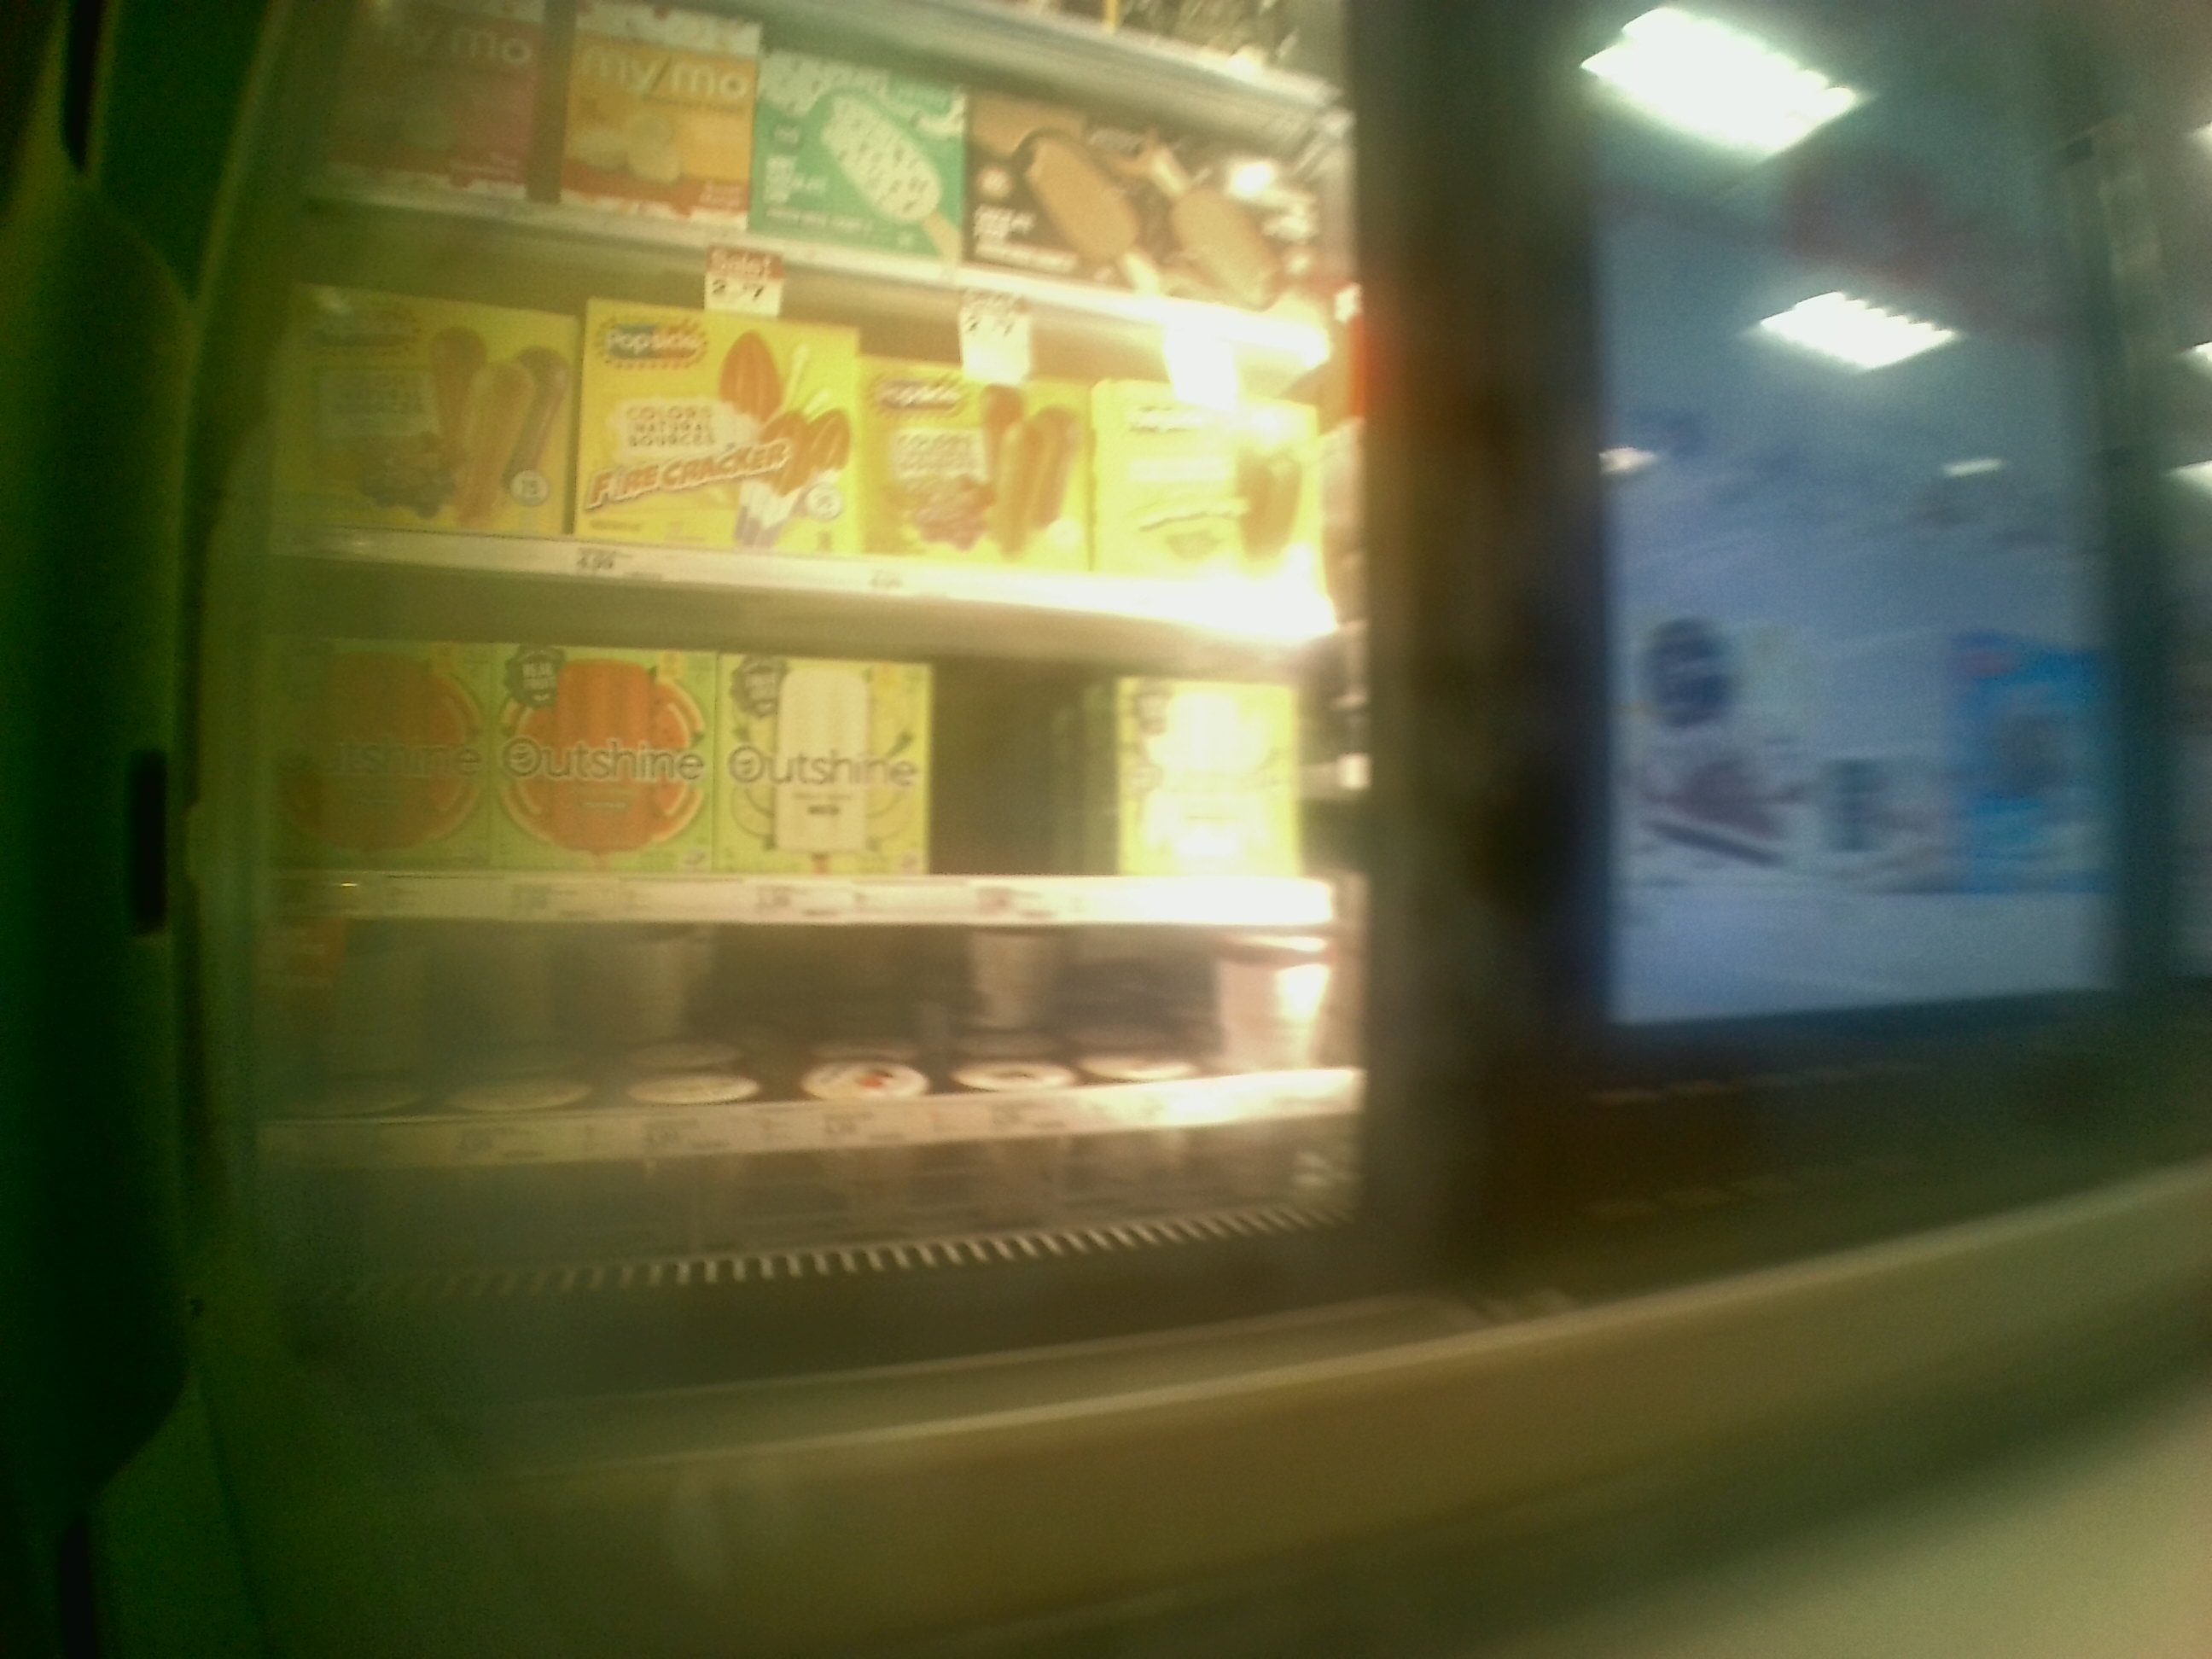ice-cream-shelf: (258, 556, 1366, 917), (263, 917, 1371, 1161)
